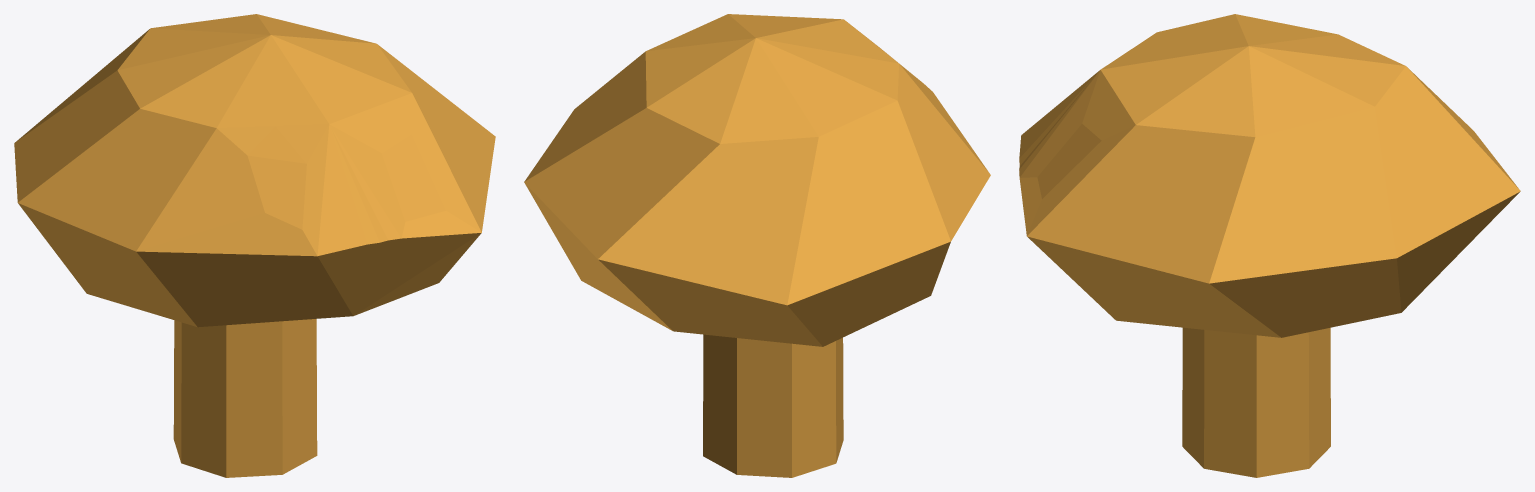
The model's file is mushroom-magical-champignon-a.fbx.
3 renders of one model, left to right at view 1: azimuth 30°, elevation 25°; view 2: azimuth 150°, elevation 25°; view 3: azimuth 270°, elevation 25°, orthographic. The views are drawn at different scales.
Visible parts, largest first — view 1: mushroom-magical-champignon-a; view 2: mushroom-magical-champignon-a; view 3: mushroom-magical-champignon-a.
Boxes of the visible parts, bbox=[...] form: mushroom-magical-champignon-a: bbox=[14, 14, 495, 477]; mushroom-magical-champignon-a: bbox=[524, 14, 990, 477]; mushroom-magical-champignon-a: bbox=[1019, 14, 1520, 477].
Bounding box in the file's own units: 0.1823 × 0.1657 × 0.1833.
